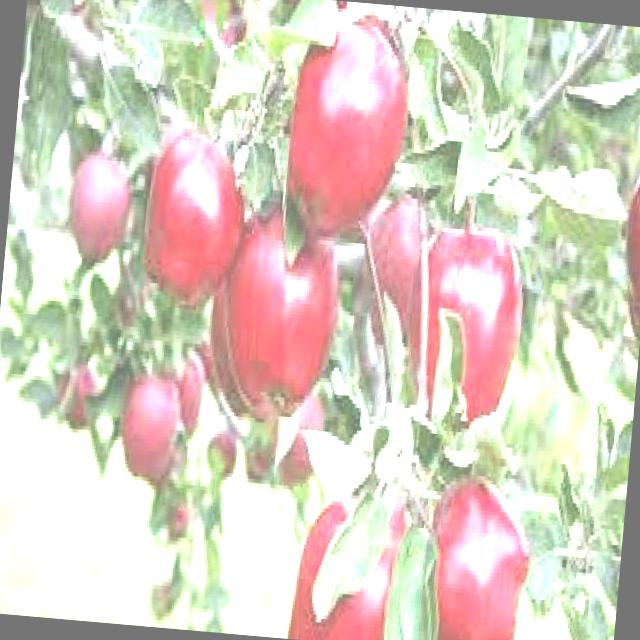Apple: (282, 9, 416, 243), (218, 198, 348, 421), (405, 218, 531, 429), (138, 118, 255, 310), (421, 472, 537, 640), (287, 487, 413, 640), (358, 190, 438, 348), (66, 146, 136, 266), (118, 368, 187, 484), (618, 148, 640, 340)
